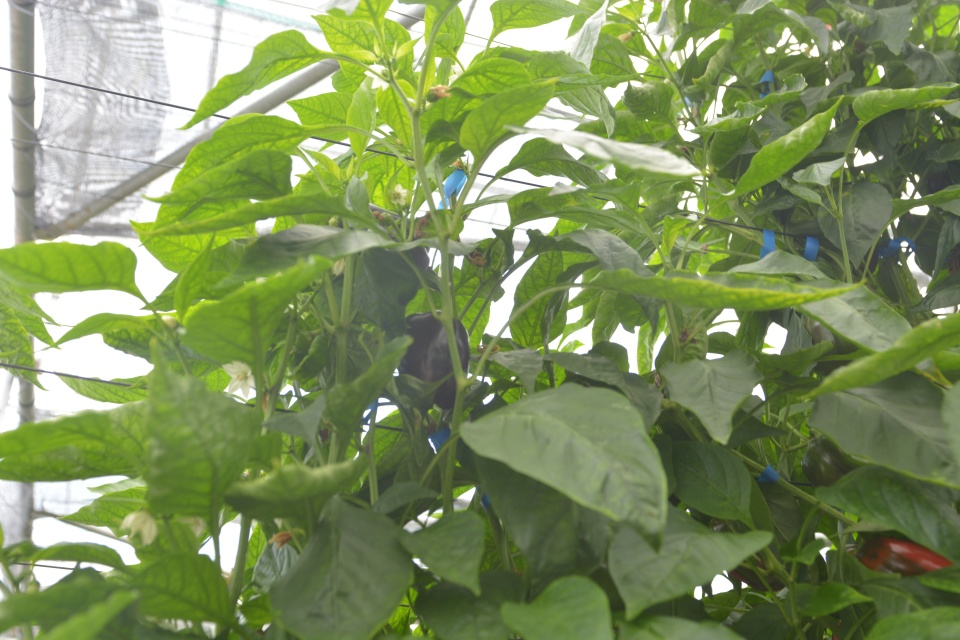flower: (221, 360, 259, 400), (119, 508, 156, 544), (389, 182, 410, 205)
fruit: (396, 310, 470, 409), (855, 533, 953, 576), (803, 314, 857, 372), (801, 433, 857, 488)
immature: (425, 83, 452, 104), (326, 213, 341, 229)
